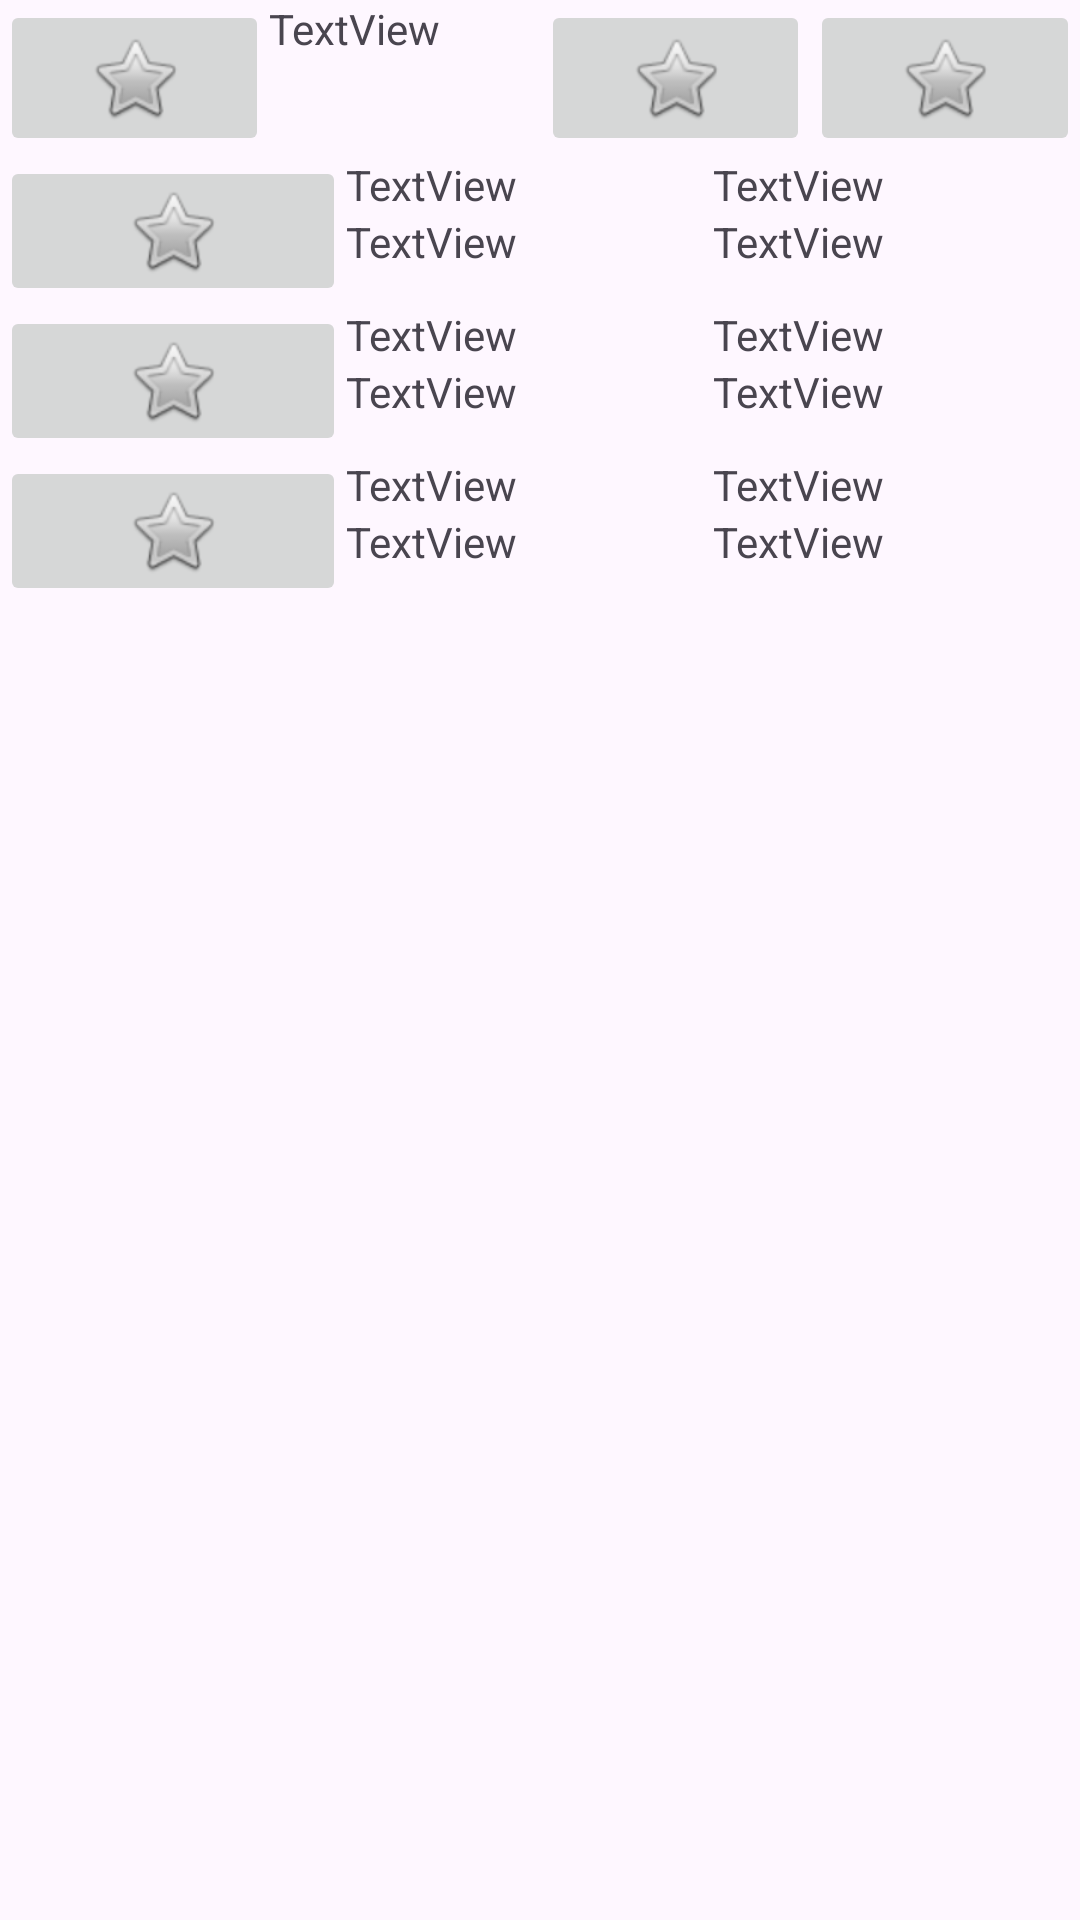

Where icons sit on this 1080px×1920px app screen, as (x1,y1,x2,y2):
star: (12,18,257,138), (553,18,798,138), (822,18,1068,138), (12,174,334,288), (12,324,334,438), (12,474,334,588)
